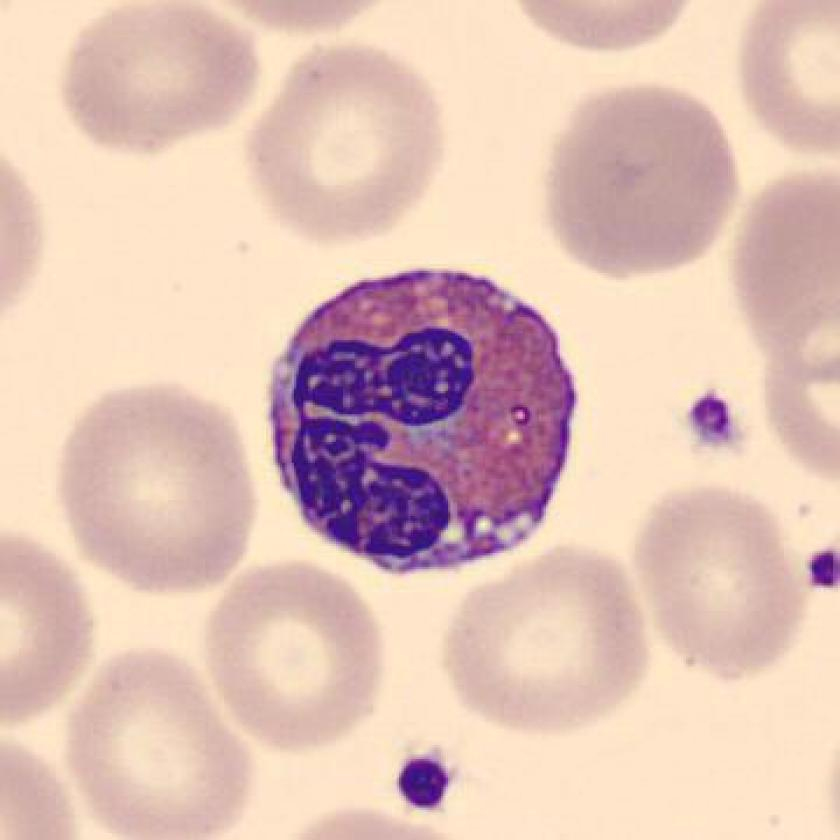eosinophil: (258, 254, 589, 587)
